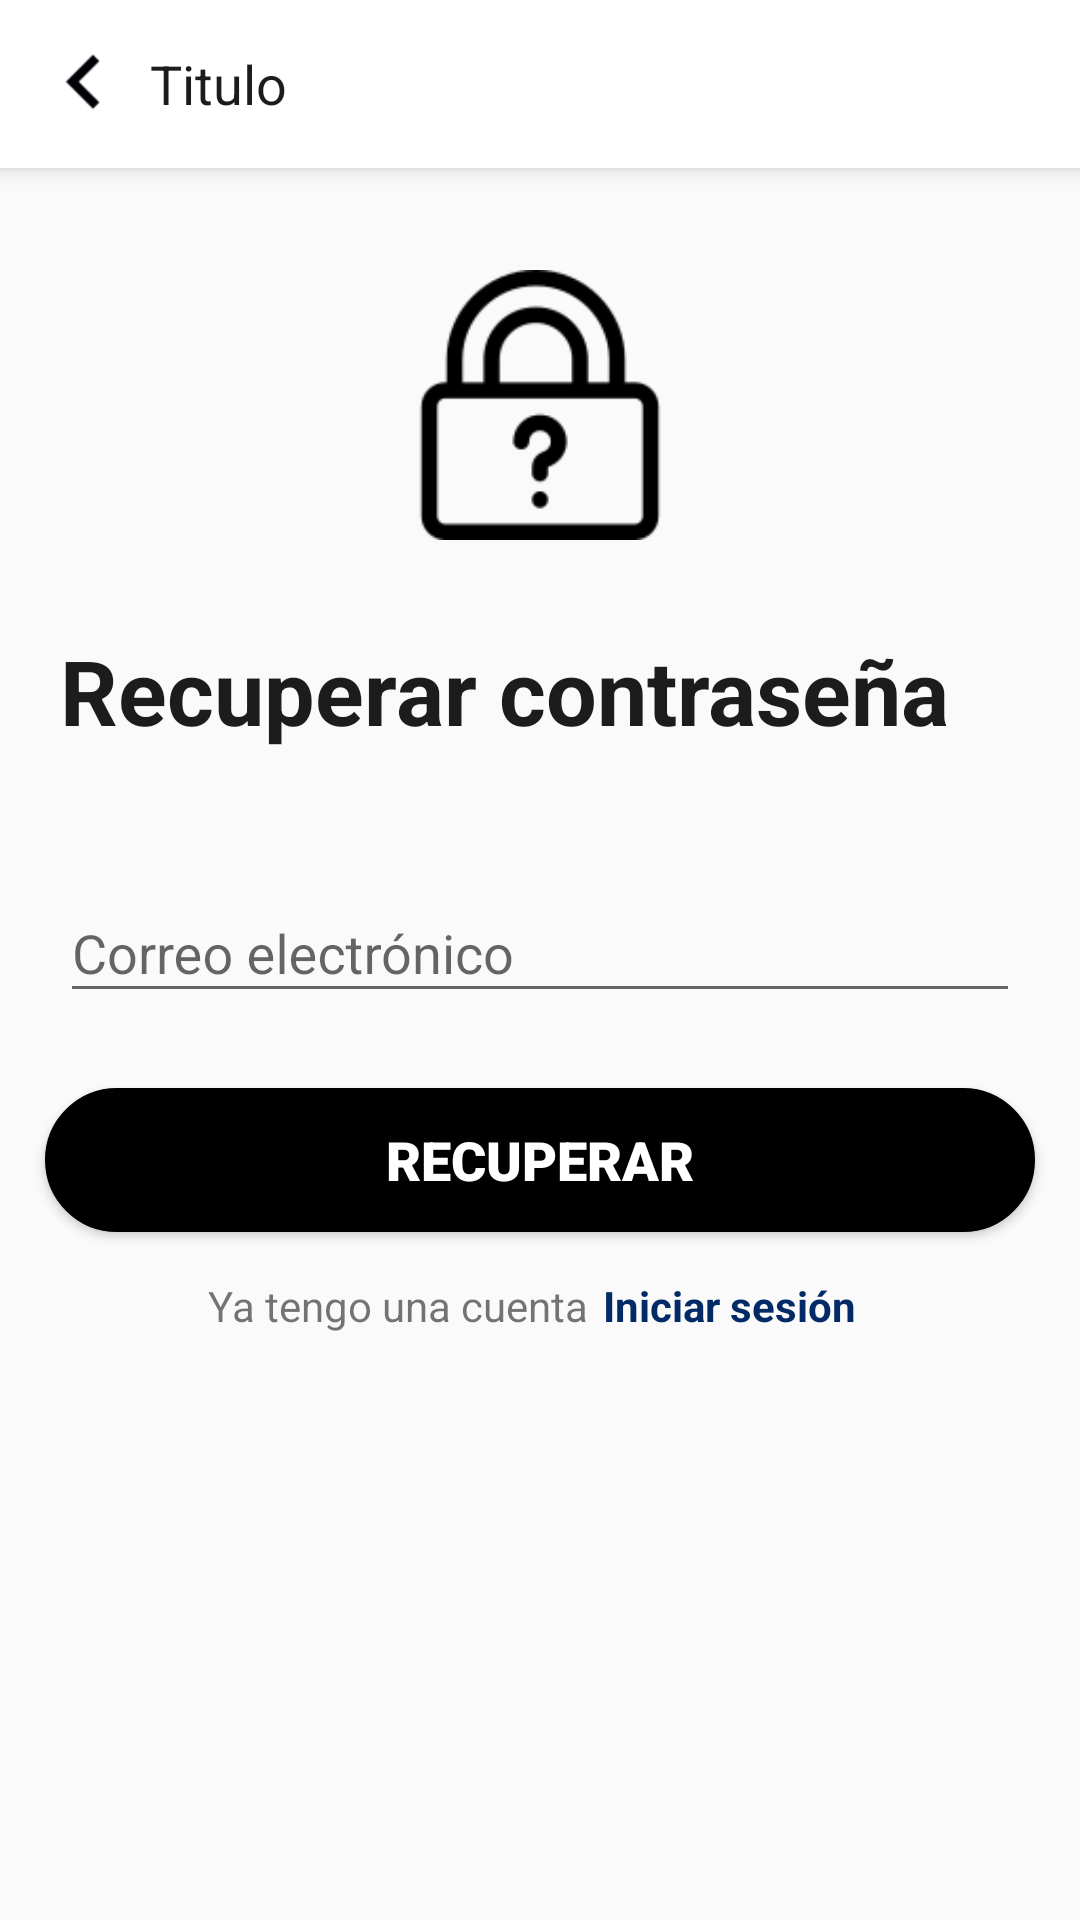

Icon bounding boxes for this 1080 × 1920 phone screenshot, format (x1, y1, x2, y2):
forgot password: (420, 270, 660, 540)
